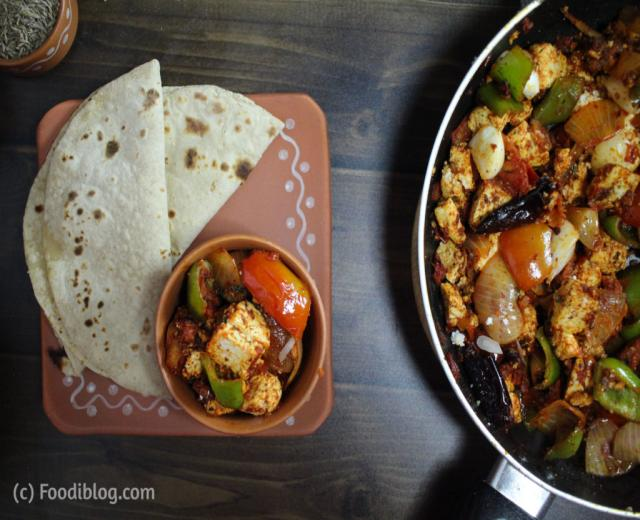kadai paneer: (414, 4, 639, 510), (4, 433, 413, 520), (64, 0, 480, 82), (154, 233, 325, 431), (21, 154, 69, 367), (58, 188, 116, 340), (466, 142, 543, 227), (278, 120, 319, 275), (0, 0, 78, 76), (65, 371, 174, 419), (180, 120, 250, 186), (461, 352, 515, 426), (13, 481, 153, 505), (164, 307, 210, 376), (530, 72, 586, 127), (562, 97, 622, 148), (467, 93, 528, 137), (36, 102, 78, 165), (587, 160, 638, 210), (1, 512, 632, 516), (504, 119, 552, 170), (589, 124, 638, 172), (206, 248, 247, 304), (63, 188, 104, 244), (187, 258, 220, 320), (469, 124, 504, 180), (559, 152, 591, 205), (463, 227, 501, 271), (442, 144, 474, 196), (566, 205, 600, 252), (432, 196, 466, 242), (439, 281, 469, 330), (435, 238, 467, 283), (561, 7, 603, 40), (601, 214, 638, 247), (450, 112, 476, 147), (552, 146, 575, 183), (209, 304, 237, 334), (202, 392, 236, 416), (210, 357, 238, 380), (432, 316, 449, 348), (444, 353, 462, 383), (476, 335, 504, 354), (184, 116, 208, 136), (141, 87, 160, 110), (431, 258, 447, 284), (430, 178, 442, 204), (104, 139, 120, 158), (184, 148, 198, 168), (521, 17, 533, 34), (140, 318, 151, 335), (73, 244, 83, 256), (138, 127, 148, 138), (34, 204, 44, 213)
